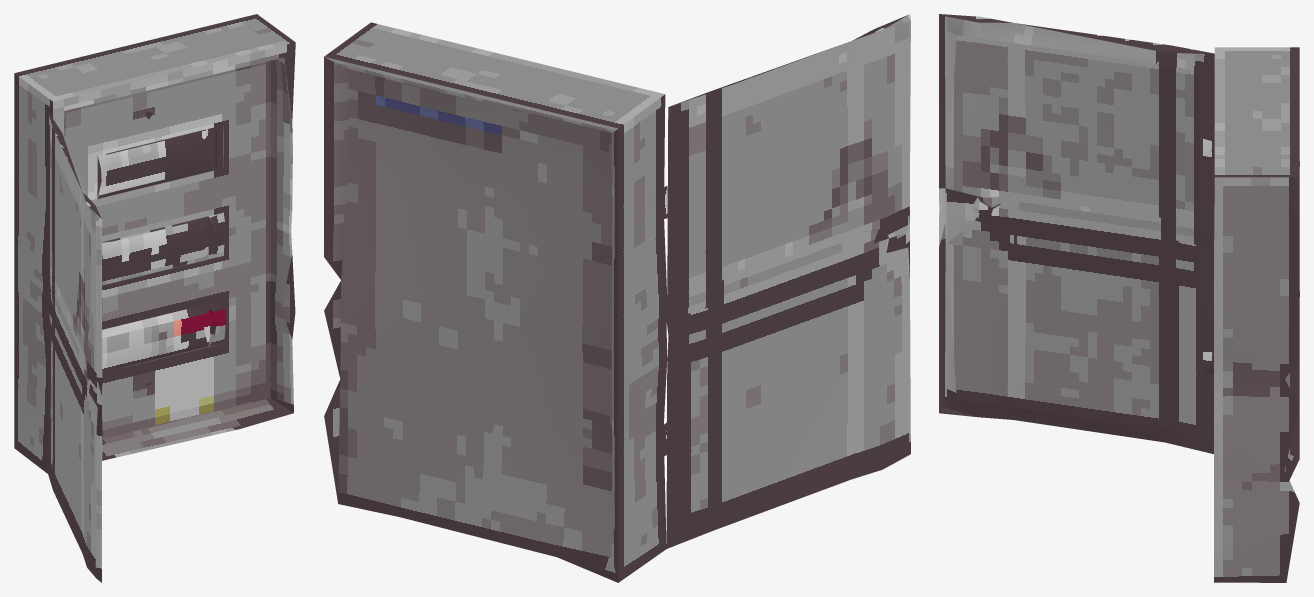
The model's file is power_box_01.glb.
3 renders of one model, left to right at view 1: azimuth 30°, elevation 25°; view 2: azimuth 150°, elevation 25°; view 3: azimuth 270°, elevation 25°, orthographic. The views are drawn at different scales.
Parts seen in each view (by area): view 1: mesh; view 2: mesh; view 3: mesh.
Boxes of the visible parts, x1,y1,x2,y2 form: mesh: (14,14,295,582); mesh: (324,14,910,582); mesh: (939,14,1299,582).
Bounding box in the file's own units: 0.453 × 0.5031 × 0.3995.
1 material, 1 textured.
